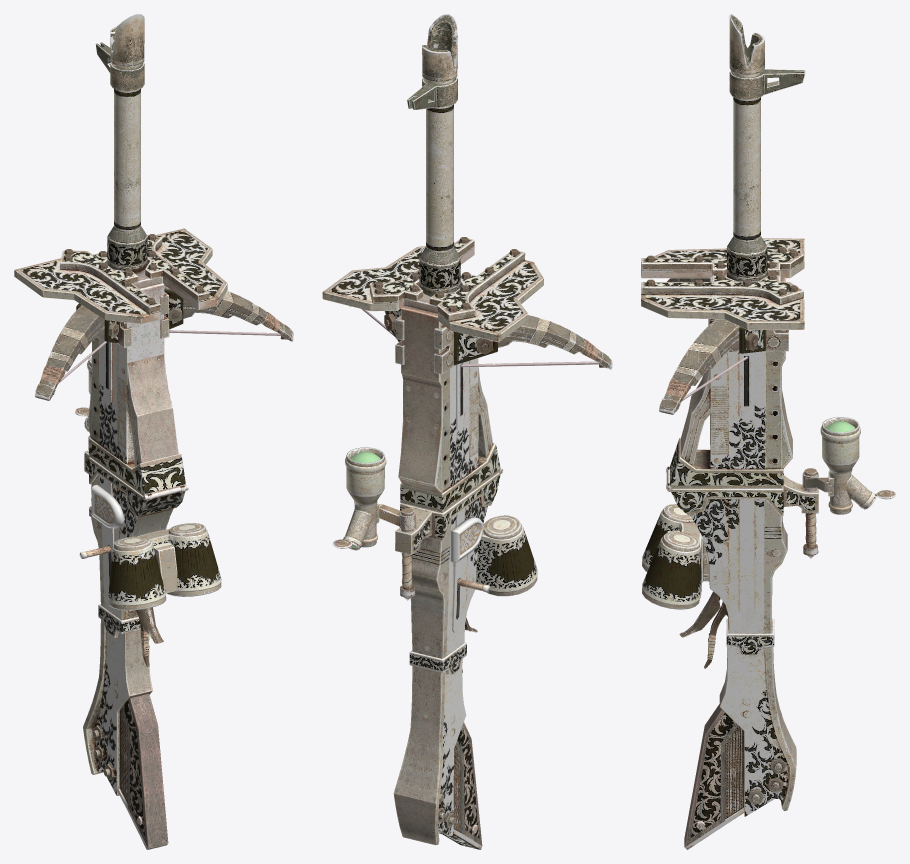
File: bs_hbg009.obj
3 views of the same model, side by side, from view 1: azimuth 30°, elevation 25°; view 2: azimuth 150°, elevation 25°; view 3: azimuth 270°, elevation 25° (orthographic). The views are drawn at different scales.
Parts seen in each view (by area): view 1: bs_hbg009_000_LOD_1, bs_hbg009_001_LOD_1, bs_hbg009_006_LOD_1, bs_hbg009_005_LOD_1, bs_hbg009_009_LOD_1, bs_hbg009_004_LOD_1, bs_hbg009_003_LOD_1, bs_hbg009_008_LOD_1, bs_hbg009_002_LOD_1; view 2: bs_hbg009_000_LOD_1, bs_hbg009_001_LOD_1, bs_hbg009_006_LOD_1, bs_hbg009_005_LOD_1, bs_hbg009_007_LOD_1, bs_hbg009_009_LOD_1, bs_hbg009_004_LOD_1, bs_hbg009_002_LOD_1; view 3: bs_hbg009_000_LOD_1, bs_hbg009_001_LOD_1, bs_hbg009_006_LOD_1, bs_hbg009_005_LOD_1, bs_hbg009_009_LOD_1, bs_hbg009_007_LOD_1, bs_hbg009_003_LOD_1.
Part boxes in pixels (left/top/right/bottom): bs_hbg009_000_LOD_1: left=79, top=450, right=184, bottom=849; bs_hbg009_001_LOD_1: left=76, top=270, right=188, bottom=500; bs_hbg009_006_LOD_1: left=14, top=228, right=227, bottom=323; bs_hbg009_005_LOD_1: left=95, top=14, right=147, bottom=273; bs_hbg009_009_LOD_1: left=108, top=523, right=221, bottom=610; bs_hbg009_004_LOD_1: left=34, top=305, right=104, bottom=400; bs_hbg009_003_LOD_1: left=164, top=285, right=293, bottom=341; bs_hbg009_008_LOD_1: left=153, top=542, right=177, bottom=593; bs_hbg009_002_LOD_1: left=59, top=330, right=280, bottom=382; bs_hbg009_000_LOD_1: left=393, top=472, right=500, bottom=849; bs_hbg009_001_LOD_1: left=384, top=293, right=503, bottom=513; bs_hbg009_006_LOD_1: left=322, top=237, right=543, bottom=342; bs_hbg009_005_LOD_1: left=407, top=14, right=460, bottom=295; bs_hbg009_007_LOD_1: left=332, top=447, right=415, bottom=550; bs_hbg009_009_LOD_1: left=475, top=515, right=537, bottom=596; bs_hbg009_004_LOD_1: left=498, top=315, right=612, bottom=369; bs_hbg009_002_LOD_1: left=361, top=309, right=598, bottom=367; bs_hbg009_000_LOD_1: left=671, top=474, right=818, bottom=849; bs_hbg009_001_LOD_1: left=666, top=270, right=792, bottom=491; bs_hbg009_006_LOD_1: left=641, top=238, right=804, bottom=329; bs_hbg009_005_LOD_1: left=727, top=14, right=805, bottom=281; bs_hbg009_009_LOD_1: left=642, top=504, right=701, bottom=609; bs_hbg009_007_LOD_1: left=802, top=417, right=895, bottom=514; bs_hbg009_003_LOD_1: left=659, top=319, right=740, bottom=414.
Bounding box in the file's own units: 78.46 × 237 × 65.9.
